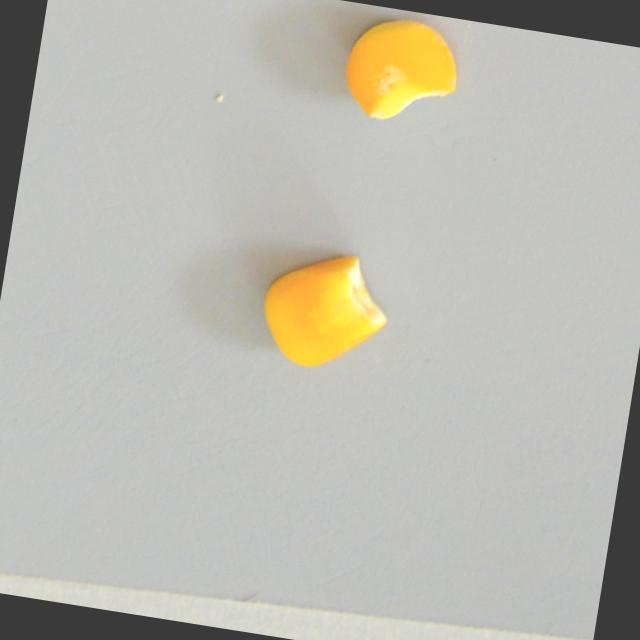no_canjicado: (250, 237, 401, 379), (325, 2, 465, 136)
